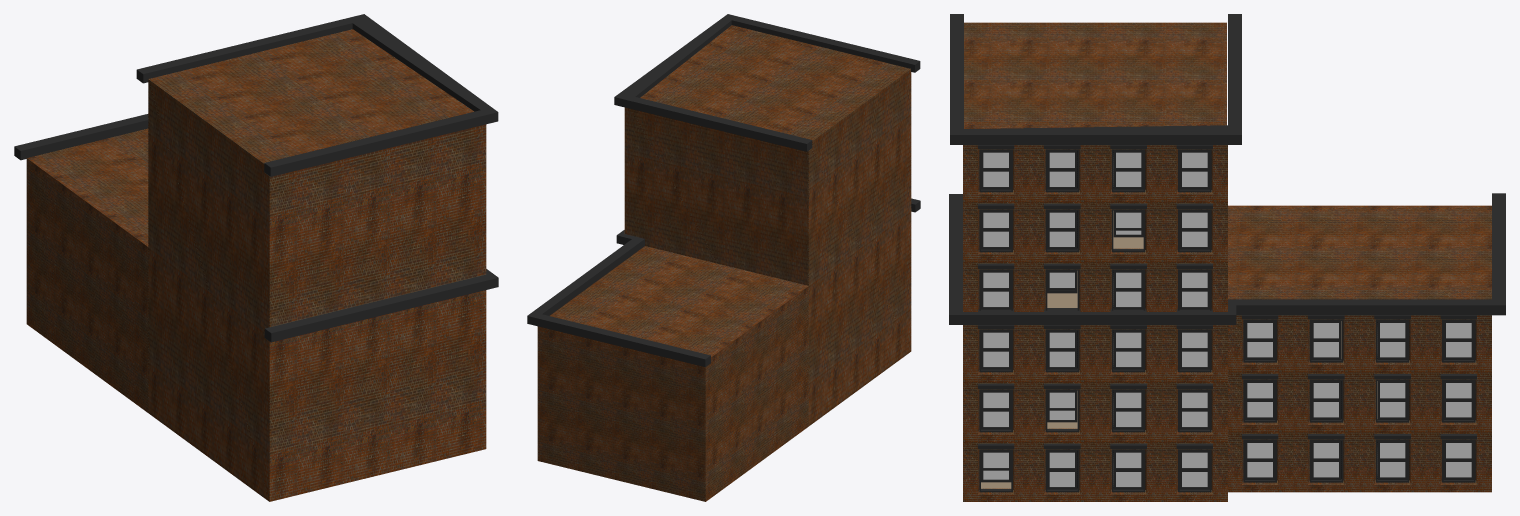
The model's file is Building2Mix.fbx.
3 views of the same model, side by side, from view 1: azimuth 30°, elevation 25°; view 2: azimuth 150°, elevation 25°; view 3: azimuth 270°, elevation 25° (orthographic). The views are drawn at different scales.
Parts seen in each view (by area): view 1: BuildingRed1BrickSmall; view 2: BuildingRed1BrickSmall; view 3: BuildingRed1BrickSmall.
Boxes of the visible parts, left/top/right/bottom form: BuildingRed1BrickSmall: left=14, top=14, right=498, bottom=501; BuildingRed1BrickSmall: left=527, top=14, right=920, bottom=501; BuildingRed1BrickSmall: left=949, top=14, right=1505, bottom=501.
Size of the model in its own units: 869 by 1234 by 1682.
